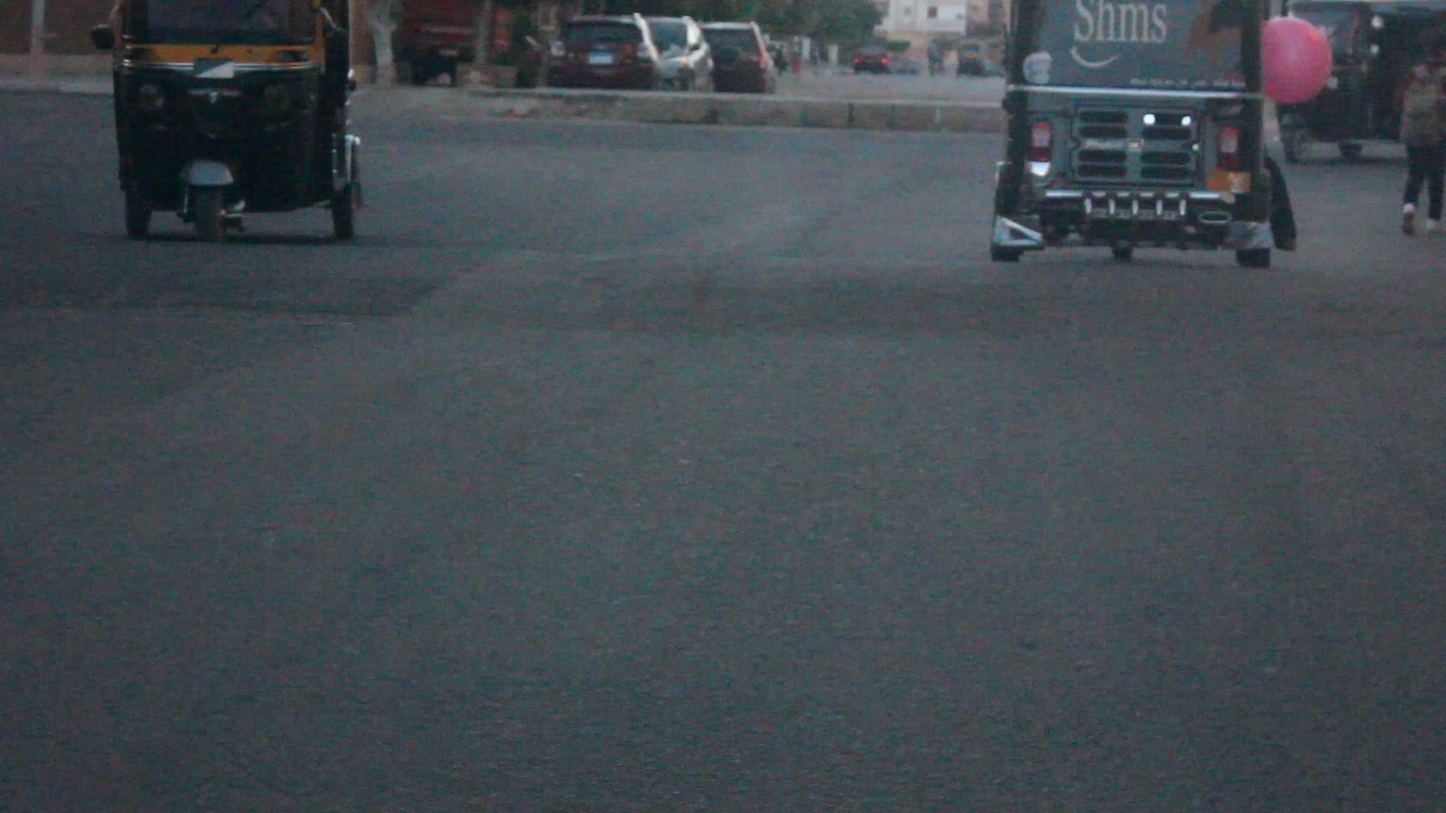Bump: (2, 237, 1446, 343)
